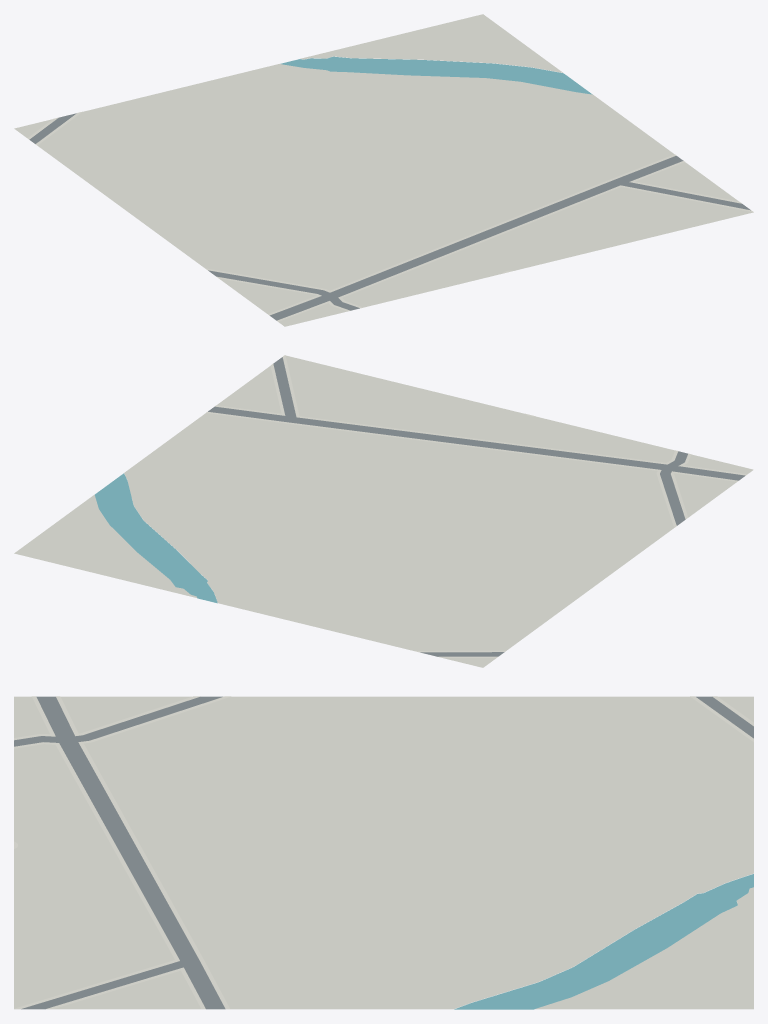
The picture shows the model from 3 angles, top to bottom: view 1: azimuth 30°, elevation 25°; view 2: azimuth 150°, elevation 25°; view 3: azimuth 270°, elevation 25°; orthographic projection. The views are drawn at different scales.
Parts seen in each view (by area): view 1: city; view 2: city; view 3: city.
Part boxes in pixels (<box>): city: <box>14,14,753,326</box>; city: <box>14,355,753,667</box>; city: <box>14,696,753,1009</box>.
Size of the model in its own units: 500 by 0.4 by 500.
